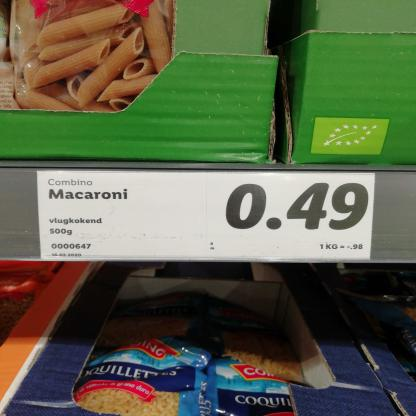prtg: (38, 171, 376, 260)
